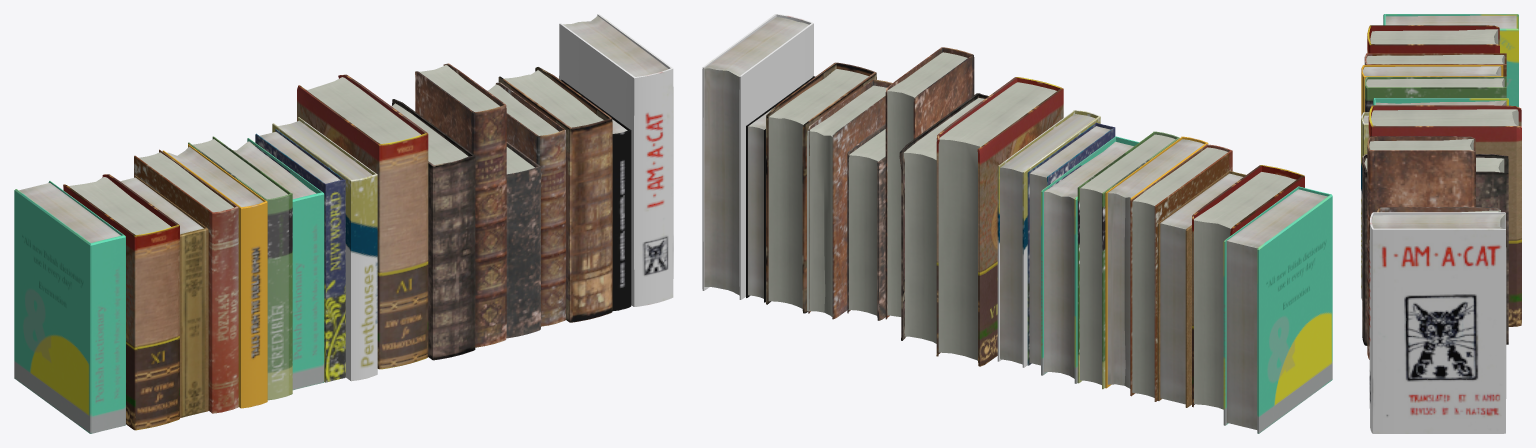
The model's file is AIUE_V01_004_librarybooks_23.FBX.
The picture shows the model from 3 angles, left to right: view 1: azimuth 30°, elevation 25°; view 2: azimuth 150°, elevation 25°; view 3: azimuth 270°, elevation 25°; orthographic projection. The views are drawn at different scales.
Visible parts, largest first — view 1: AIUE_V01_004_librarybooks_23; view 2: AIUE_V01_004_librarybooks_23; view 3: AIUE_V01_004_librarybooks_23.
Boxes of the visible parts, bbox=[...] form: AIUE_V01_004_librarybooks_23: bbox=[14, 14, 673, 433]; AIUE_V01_004_librarybooks_23: bbox=[702, 14, 1332, 433]; AIUE_V01_004_librarybooks_23: bbox=[1361, 14, 1521, 433].
Bounding box in the file's own units: 76.38 × 20.67 × 29.76.
